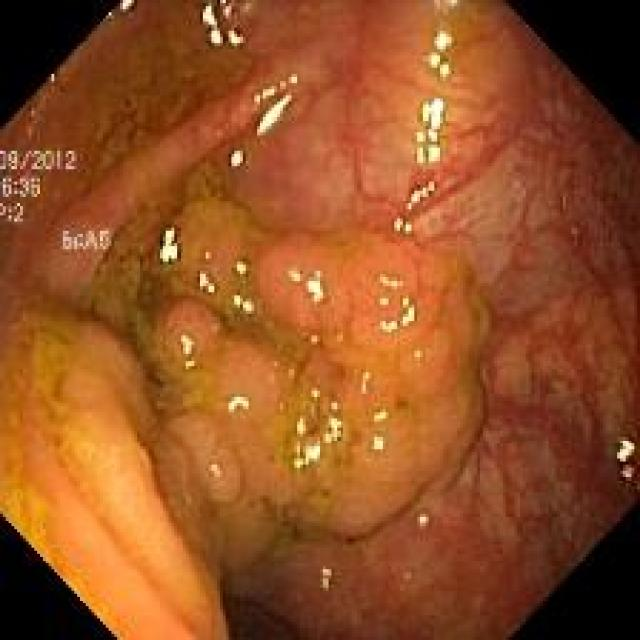Polyps: (94, 198, 491, 571)
